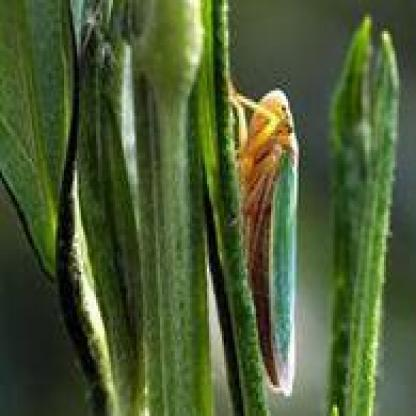Green-Leafhopper: (227, 84, 302, 397)
